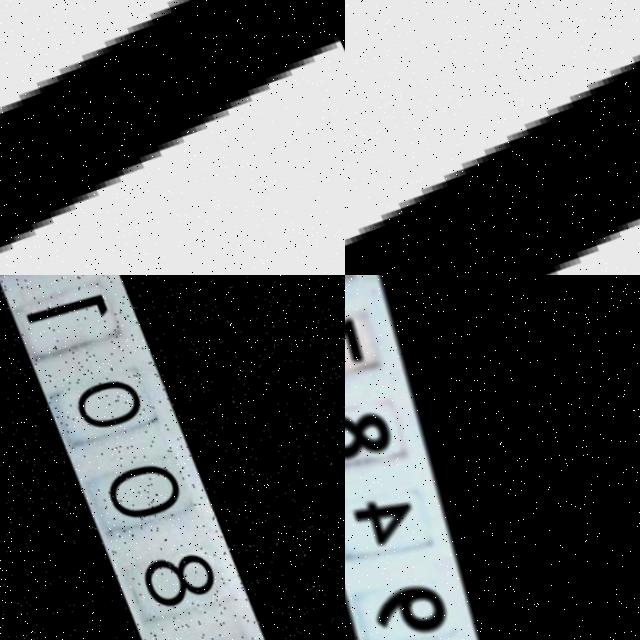0: (76, 438, 204, 543), (50, 357, 165, 450)
1: (9, 275, 131, 369)
3: (141, 613, 274, 640)
4: (345, 473, 439, 567)
7: (345, 294, 384, 392)
8: (113, 528, 236, 628), (345, 383, 417, 484)
9: (345, 557, 468, 640)
I: (345, 51, 640, 275)
J: (0, 0, 345, 275)
